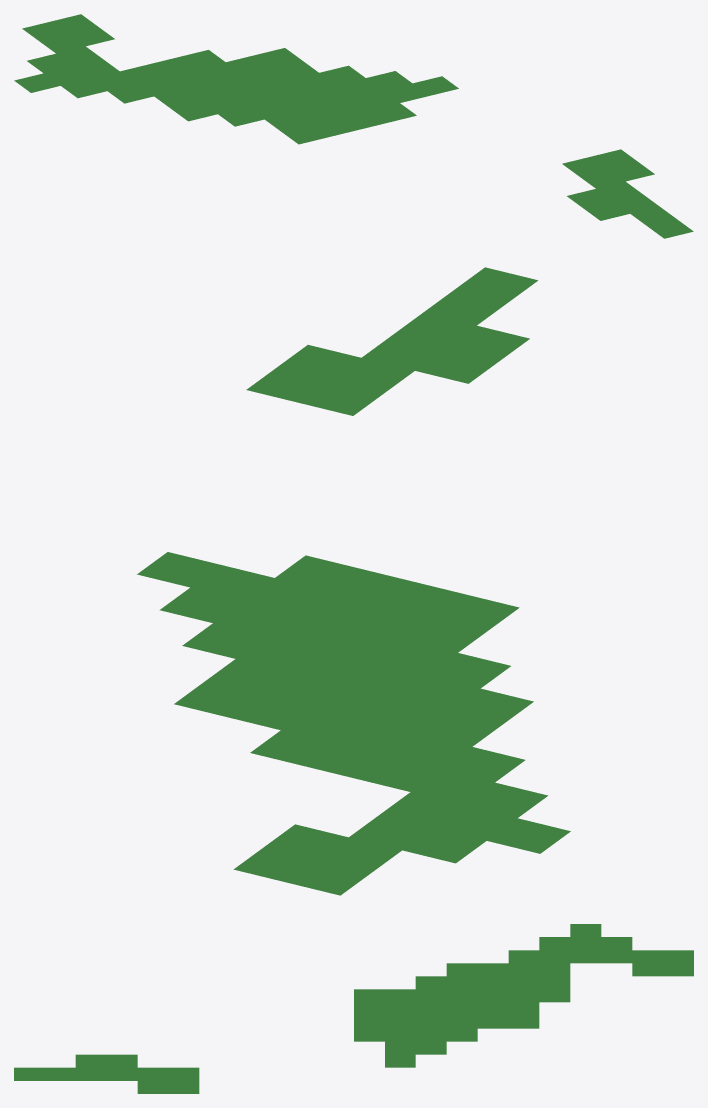
The model's file is Isl-crescent3-TreesArea.fbx.
3 views of the same model, one above another, from view 1: azimuth 30°, elevation 25°; view 2: azimuth 150°, elevation 25°; view 3: azimuth 270°, elevation 25° (orthographic). The views are drawn at different scales.
Visible parts, largest first — view 1: Isl-crescent3-TreesArea; view 2: Isl-crescent3-TreesArea; view 3: Isl-crescent3-TreesArea.
Part boxes in pixels (<box>): Isl-crescent3-TreesArea: <box>14,14,693,238</box>; Isl-crescent3-TreesArea: <box>137,267,570,895</box>; Isl-crescent3-TreesArea: <box>14,924,693,1093</box>.
Bounding box in the file's own units: 13 × 0 × 22.
